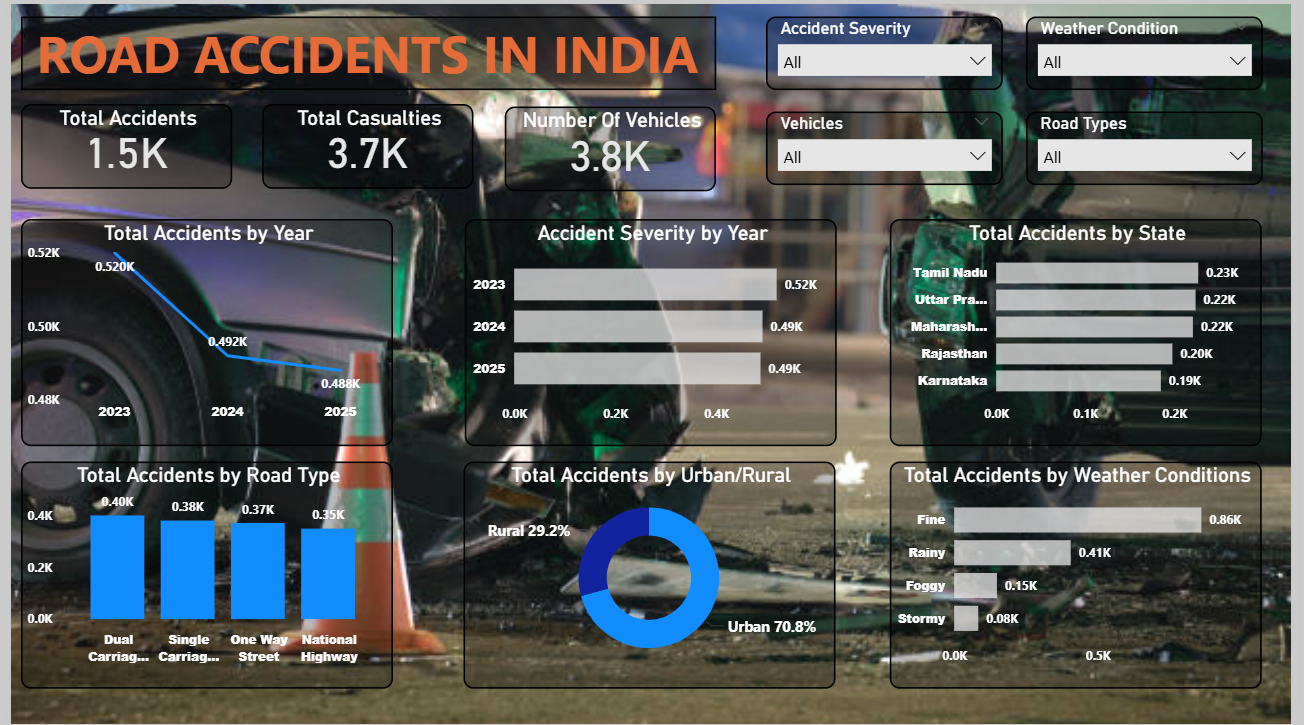

What the dashboard file says about the page in this screenshot:
{"tool":"powerbi","page":{"name":"Page 1","canvas":[1280,720],"ordinal":0},"visuals":[{"type":"textbox","title":"ROAD ACCIDENTS IN INDIA","box":[10.1,12.9,695.5,73.3],"z":0},{"type":"card","title":"Total Accidents","fields":{"Values":["Road Accidents.Total Accidents"]},"box":[10.1,100.6,211.2,84.8],"z":1000},{"type":"card","title":"Total Casualties","fields":{"Values":["Road Accidents.Total Casualties"]},"box":[251.5,100.6,211.2,84.8],"z":2000},{"type":"slicer","fields":{"Values":["Road Accidents.Accident_Severity"]},"box":[754.4,12.9,237.1,73.3],"z":3000},{"type":"slicer","fields":{"Values":["Road Accidents.Weather_Conditions"]},"box":[1014.5,12.9,237.1,73.3],"z":4000},{"type":"slicer","fields":{"Values":["Road Accidents.Vehicle_Type"]},"box":[754.4,107.8,237.1,73.3],"z":5000},{"type":"slicer","fields":{"Values":["Road Accidents.Road_Type"]},"box":[1014.5,107.8,237.1,73.3],"z":6000},{"type":"card","title":"Number Of Vehicles","fields":{"Values":["Sum(Road Accidents.Number_of_Vehicles)"]},"box":[494.3,102,211.2,84.8],"z":7000},{"type":"lineChart","fields":{"Category":["Road Accidents.Year"],"Y":["Road Accidents.Total Accidents"]},"box":[9.7,215.2,372.3,227.3],"z":8000},{"type":"barChart","title":"Accident Severity by Year","fields":{"Y":["CountNonNull(Road Accidents.Accident_Severity)"],"Category":["Road Accidents.Year"]},"box":[453.3,215.2,372.3,227.3],"z":9000},{"type":"clusteredBarChart","fields":{"Category":["Road Accidents.State"],"Y":["Road Accidents.Total Accidents"]},"box":[878.9,215.2,372.3,227.3],"z":10000},{"type":"columnChart","title":"Total Accidents by Road Type","fields":{"Category":["Road Accidents.Road_Type"],"Y":["Road Accidents.Total Accidents"]},"box":[10,457.5,372,227],"z":11000},{"type":"donutChart","title":"Total Accidents by Urban/Rural","fields":{"Category":["Road Accidents.Urban_or_Rural"],"Y":["Road Accidents.Total Accidents"]},"box":[453,458,372,227],"z":12000},{"type":"clusteredBarChart","title":"Total Accidents by Weather Conditions","fields":{"Y":["Road Accidents.Total Accidents"],"Category":["Road Accidents.Weather_Conditions"]},"box":[879,458,372,227],"z":13000}]}

Visuals, with their boxes in screenshot pixels (x1, y1, x2, y2), scaled from the page's 1280x720 canvas onto the 1304x725 screenshot:
"ROAD ACCIDENTS IN INDIA" textbox: 10, 13, 719, 87
"Total Accidents" card: 10, 101, 225, 187
"Total Casualties" card: 256, 101, 471, 187
slicer - Road Accidents.Accident_Severity: 769, 13, 1010, 87
slicer - Road Accidents.Weather_Conditions: 1034, 13, 1275, 87
slicer - Road Accidents.Vehicle_Type: 769, 109, 1010, 182
slicer - Road Accidents.Road_Type: 1034, 109, 1275, 182
"Number Of Vehicles" card: 504, 103, 719, 188
lineChart - Road Accidents.Year x Road Accidents.Total Accidents: 10, 217, 389, 446
"Accident Severity by Year" barChart: 462, 217, 841, 446
clusteredBarChart - Road Accidents.State x Road Accidents.Total Accidents: 895, 217, 1275, 446
"Total Accidents by Road Type" columnChart: 10, 461, 389, 689
"Total Accidents by Urban/Rural" donutChart: 461, 461, 840, 690
"Total Accidents by Weather Conditions" clusteredBarChart: 895, 461, 1274, 690
